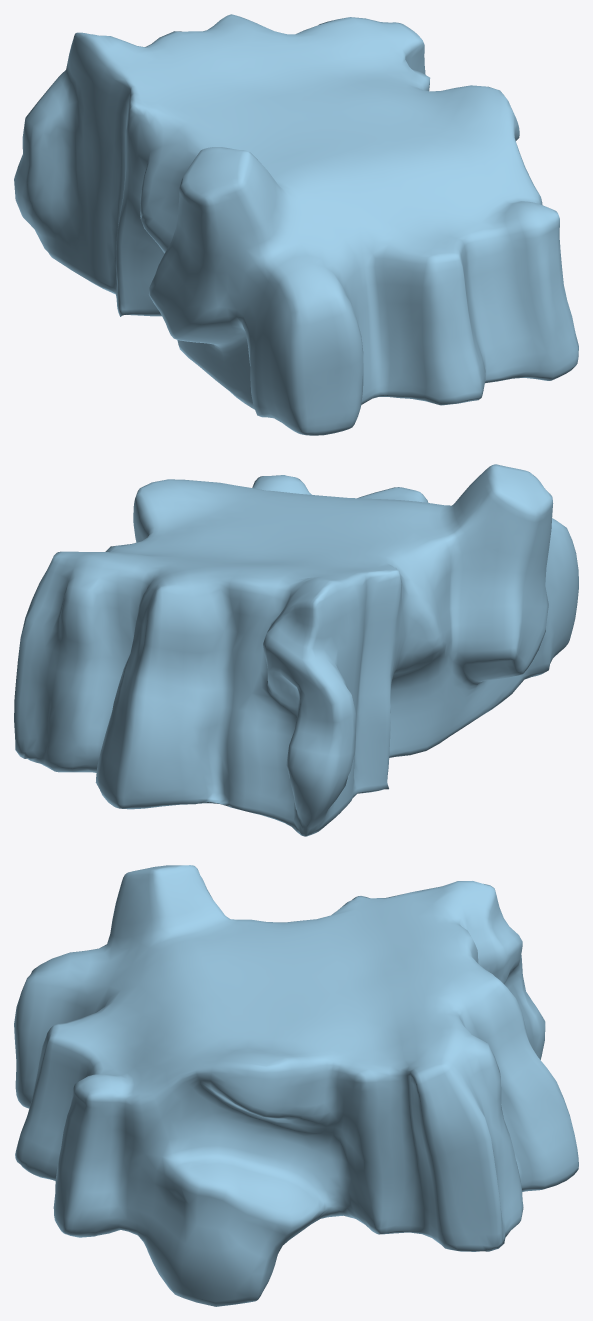
The model's file is Land2.fbx.
3 views of the same model, one above another, from view 1: azimuth 30°, elevation 25°; view 2: azimuth 150°, elevation 25°; view 3: azimuth 270°, elevation 25° (orthographic). The views are drawn at different scales.
Visible parts, largest first — view 1: Retopo_Iceburg 2.001; view 2: Retopo_Iceburg 2.001; view 3: Retopo_Iceburg 2.001.
Part boxes in pixels (x1=…): Retopo_Iceburg 2.001: x1=14, y1=14, x2=578, y2=435; Retopo_Iceburg 2.001: x1=14, y1=464, x2=578, y2=836; Retopo_Iceburg 2.001: x1=14, y1=865, x2=578, y2=1306.
Size of the model in its own units: 212 by 156 by 275.
